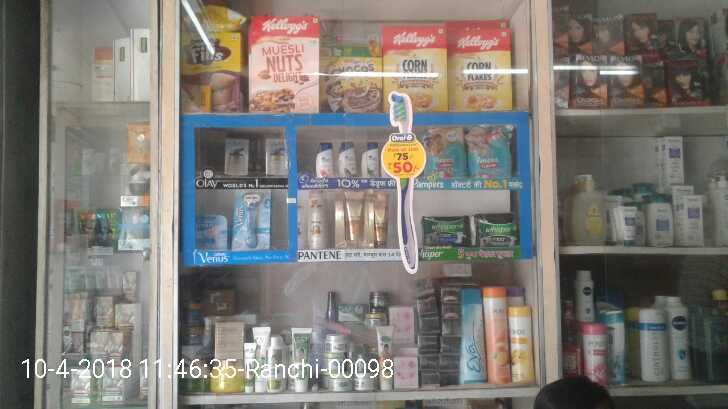venus: (231, 189, 272, 251), (196, 216, 228, 249)
